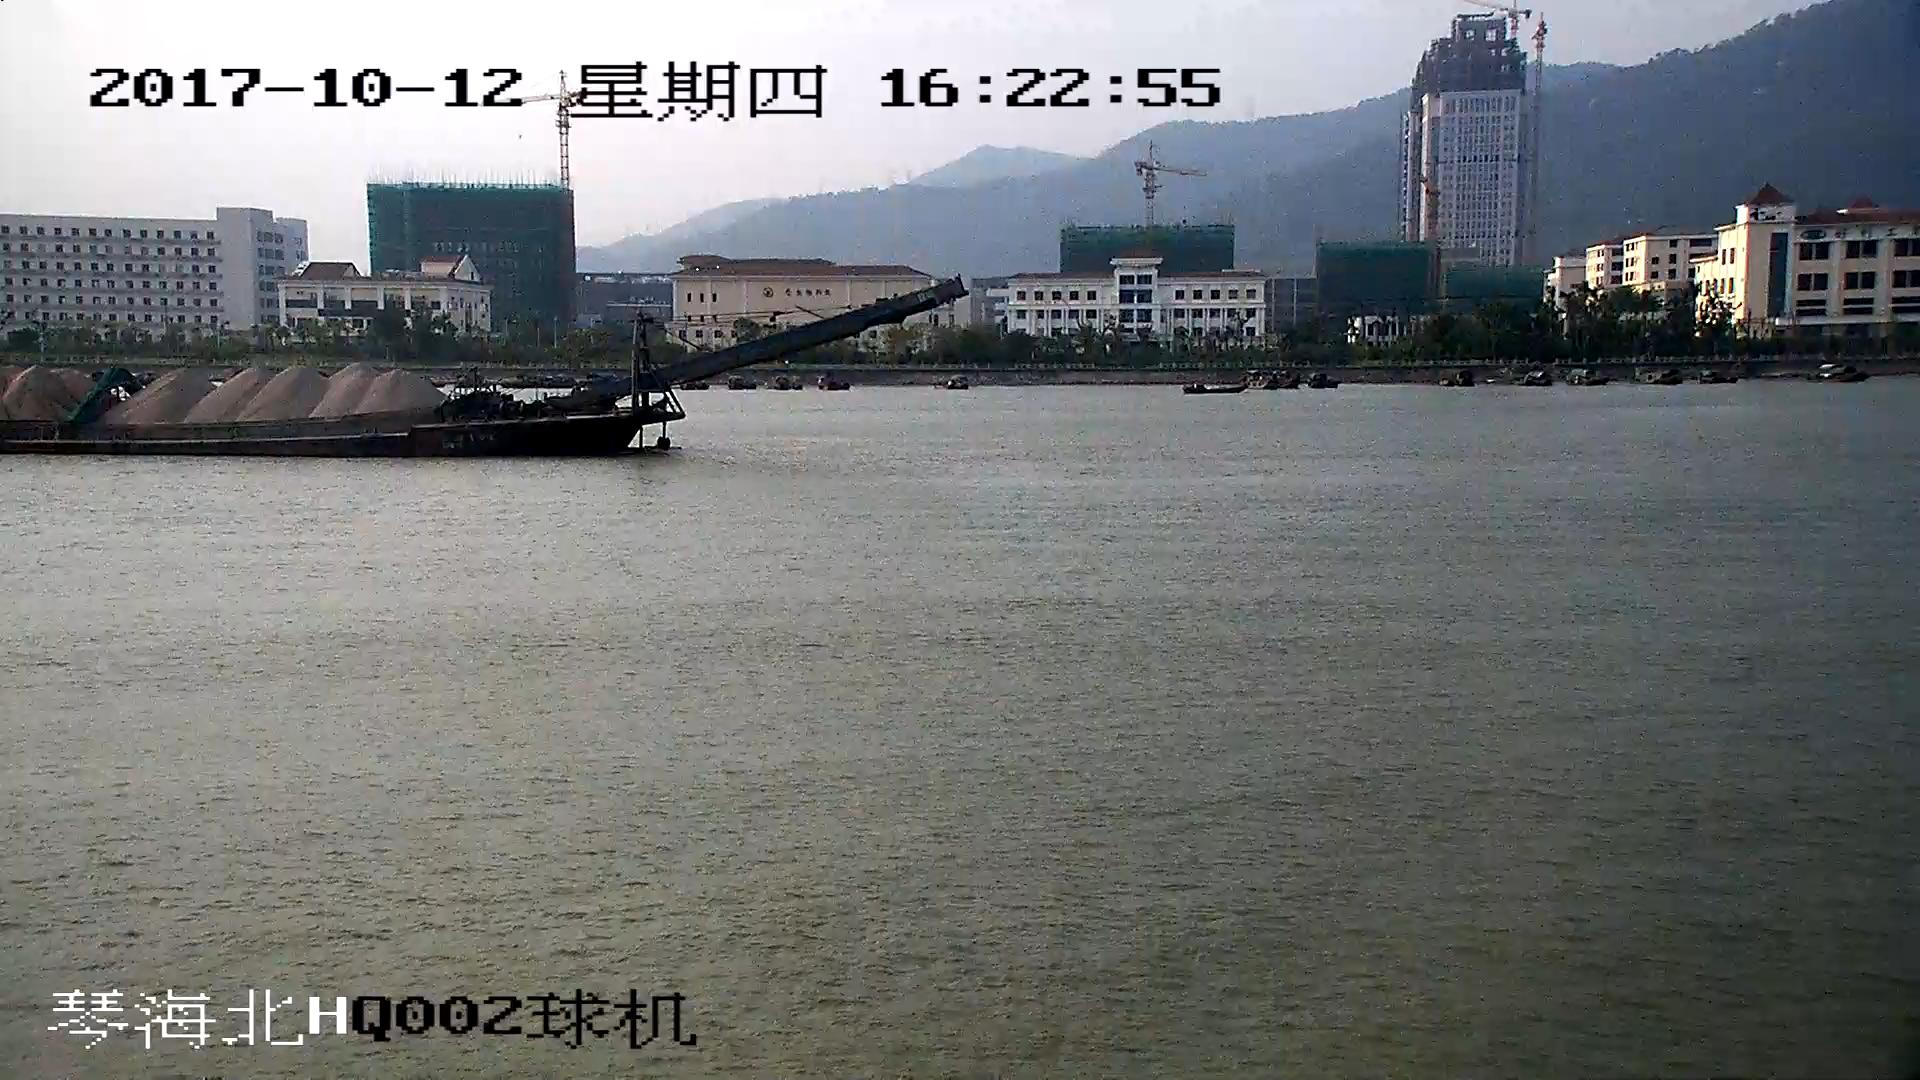ore carrier: (1, 282, 958, 454)
